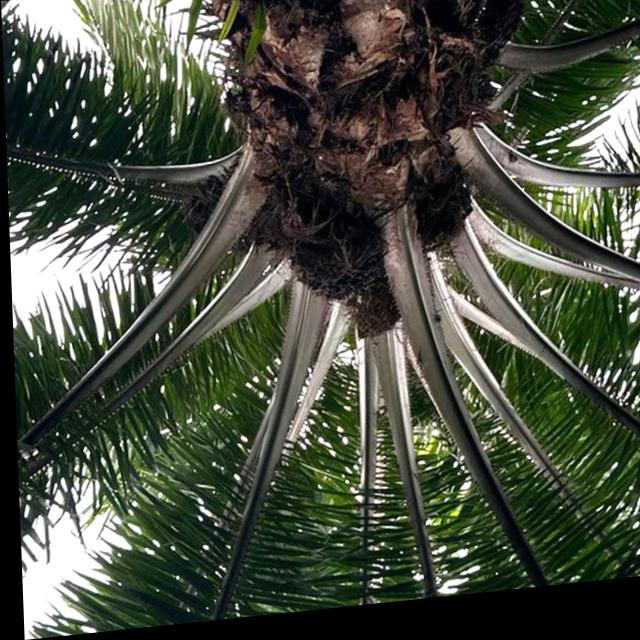unripe: (272, 203, 391, 320)
